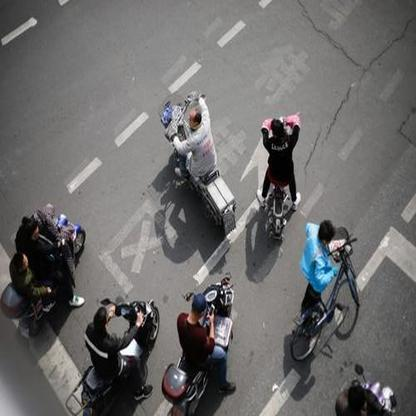target: (159, 90, 239, 235), (3, 203, 86, 333), (161, 274, 239, 412), (72, 295, 160, 408), (256, 111, 302, 240)
